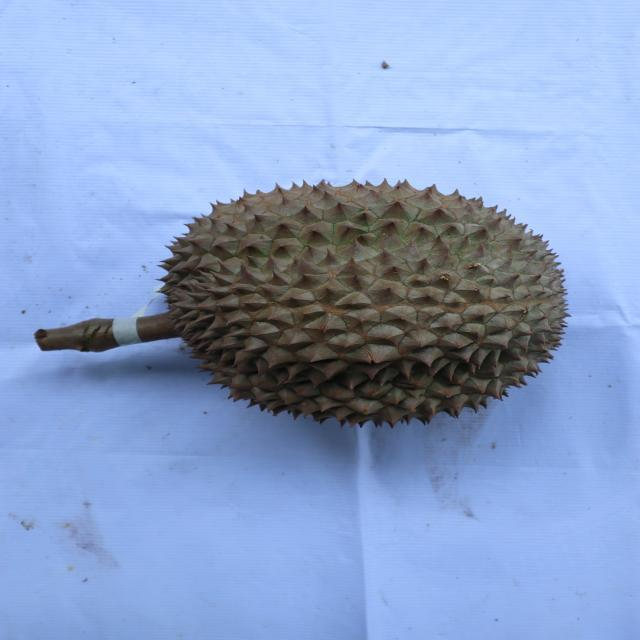mature: (157, 177, 570, 434)
